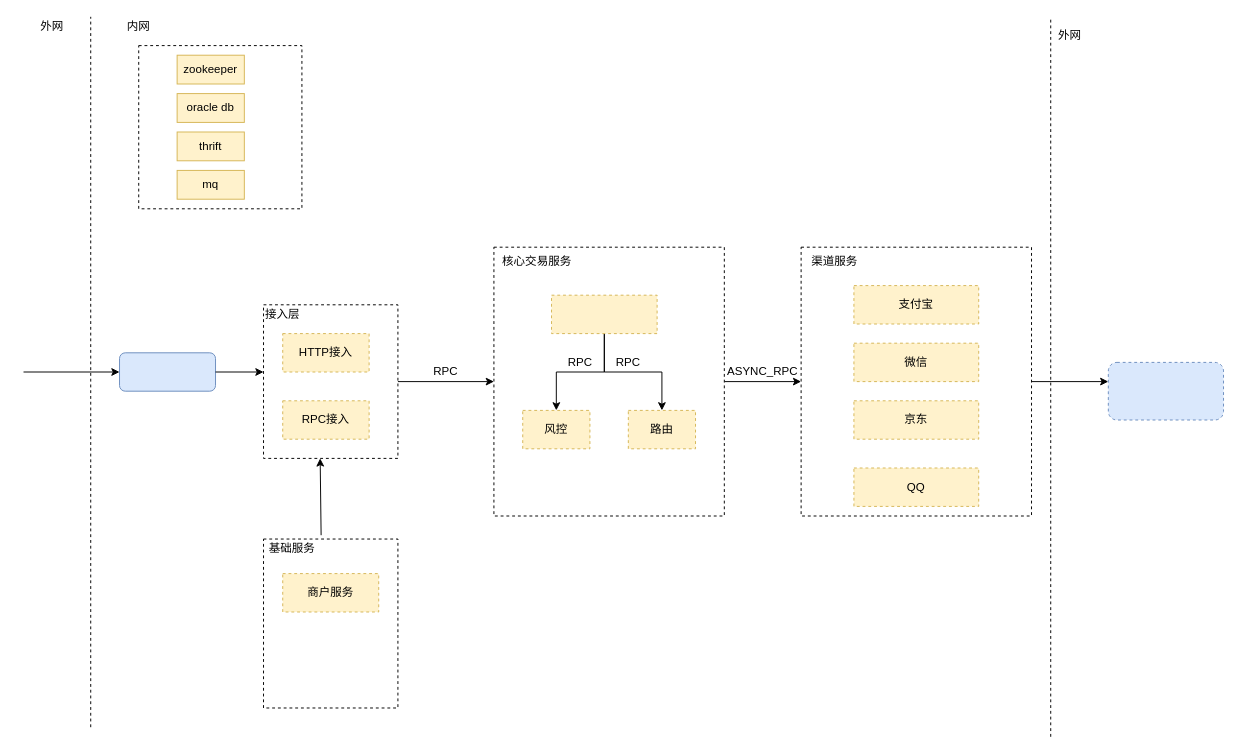
Image size: 1240x755. Some labels were removed from this diagram. The centre of each missing label's shape, as x and y in pixels:
"NGINX" belongs at [167,371].
"交易前置" belongs at [604,314].
"渠道" belongs at [1165,390].
